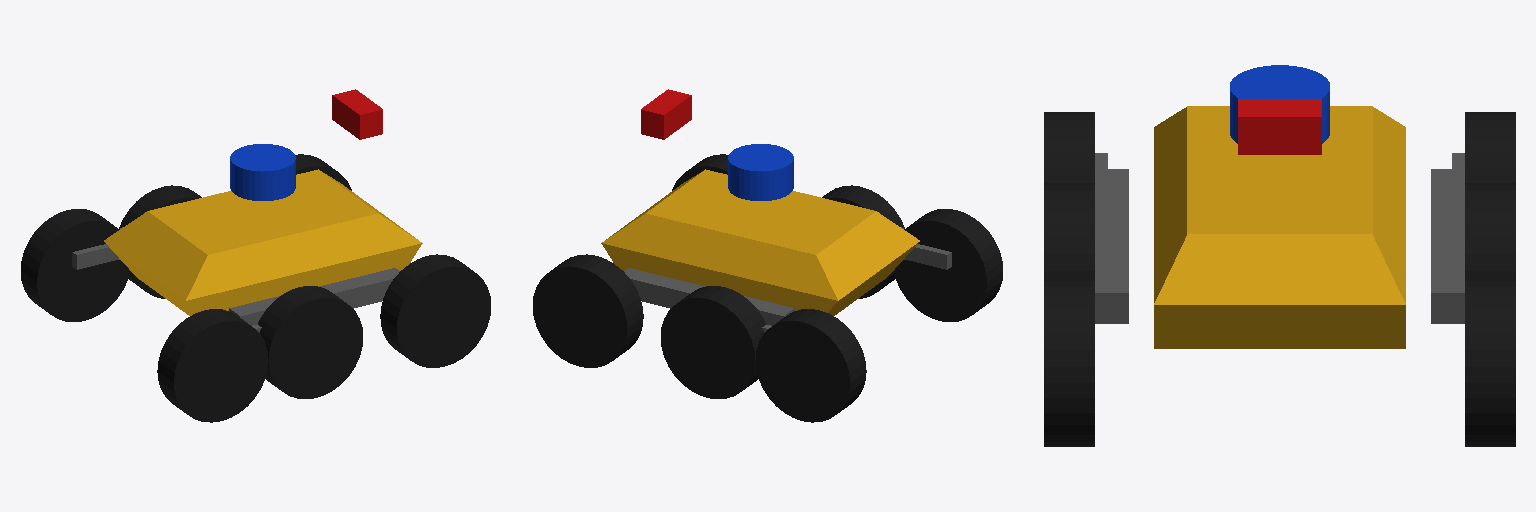
The robot description file, URDF, robot "planetary_rover":
<?xml version="1.0"?>
<robot name="planetary_rover">

  <!-- materials -->
  <material name="gold">
    <color rgba="0.85 0.65 0.12 1.0"/>
  </material>

  <material name="rover_grey">
    <color rgba="0.4 0.4 0.4 1.0"/>
  </material>

  <material name="wheel_dark">
    <color rgba="0.15 0.15 0.15 1.0"/>
  </material>

  <material name="sensor_red">
    <color rgba="0.8 0.1 0.1 1.0"/>
  </material>

  <material name="sensor_blue">
    <color rgba="0.1 0.3 0.8 1.0"/>
  </material>

  <!-- base_footprint (massless root link) -->
  <link name="base_footprint"/>

  <joint name="base_footprint_joint" type="fixed">
    <parent link="base_footprint"/>
    <child link="base_link"/>
    <origin xyz="0 0 0.15" rpy="0 0 0"/>
  </joint>

  <!-- base_link (chassis with mesh) -->
  <link name="base_link">
    <visual>
      <origin xyz="0 0 0" rpy="0 0 0"/>
      <geometry>
        <mesh filename="package://05_planetary_rover/meshes/chassis.stl"/>
      </geometry>
      <material name="gold"/>
    </visual>
    <collision>
      <origin xyz="0 0 0.025" rpy="0 0 0"/>
      <geometry>
        <box size="0.5 0.3 0.15"/>
      </geometry>
    </collision>
    <inertial>
      <origin xyz="0 0 0.025" rpy="0 0 0"/>
      <mass value="15.0"/>
      <inertia ixx="0.14" ixy="0.0" ixz="0.0" iyy="0.34" iyz="0.0" izz="0.42"/>
    </inertial>
  </link>

  <!-- ================= LEFT ROCKER-BOGIE ================= -->
  <!-- left rocker pivot -->
  <joint name="left_rocker_joint" type="revolute">
    <parent link="base_link"/>
    <child link="left_rocker_link"/>
    <origin xyz="0 0.20 0.0" rpy="0 0 0"/>
    <axis xyz="0 1 0"/>
    <limit lower="-0.35" upper="0.35" effort="50.0" velocity="1.0"/>
  </joint>

  <link name="left_rocker_link">
    <visual>
      <origin xyz="0 0 0" rpy="0 0 0"/>
      <geometry>
        <box size="0.35 0.04 0.04"/>
      </geometry>
      <material name="rover_grey"/>
    </visual>
    <collision>
      <origin xyz="0 0 0" rpy="0 0 0"/>
      <geometry>
        <box size="0.35 0.04 0.04"/>
      </geometry>
    </collision>
    <inertial>
      <origin xyz="0 0 0" rpy="0 0 0"/>
      <mass value="1.5"/>
      <inertia ixx="0.0004" ixy="0.0" ixz="0.0" iyy="0.015" iyz="0.0" izz="0.015"/>
    </inertial>
  </link>

  <!-- left front wheel -->
  <joint name="left_front_wheel_joint" type="continuous">
    <parent link="left_rocker_link"/>
    <child link="left_front_wheel_link"/>
    <origin xyz="0.22 0.05 -0.05" rpy="0 0 0"/>
    <axis xyz="0 1 0"/>
  </joint>

  <link name="left_front_wheel_link">
    <visual>
      <origin xyz="0 0 0" rpy="1.57079632679 0 0"/>
      <geometry>
        <cylinder radius="0.1" length="0.06"/>
      </geometry>
      <material name="wheel_dark"/>
    </visual>
    <collision>
      <origin xyz="0 0 0" rpy="1.57079632679 0 0"/>
      <geometry>
        <cylinder radius="0.1" length="0.06"/>
      </geometry>
    </collision>
    <inertial>
      <origin xyz="0 0 0" rpy="0 0 0"/>
      <mass value="1.0"/>
      <inertia ixx="0.0028" ixy="0.0" ixz="0.0" iyy="0.005" iyz="0.0" izz="0.0028"/>
    </inertial>
  </link>

  <!-- left bogie pivot on rear of rocker -->
  <joint name="left_bogie_joint" type="revolute">
    <parent link="left_rocker_link"/>
    <child link="left_bogie_link"/>
    <origin xyz="-0.15 0.02 -0.02" rpy="0 0 0"/>
    <axis xyz="0 1 0"/>
    <limit lower="-0.35" upper="0.35" effort="30.0" velocity="1.0"/>
  </joint>

  <link name="left_bogie_link">
    <visual>
      <origin xyz="0 0 0" rpy="0 0 0"/>
      <geometry>
        <box size="0.25 0.03 0.03"/>
      </geometry>
      <material name="rover_grey"/>
    </visual>
    <collision>
      <origin xyz="0 0 0" rpy="0 0 0"/>
      <geometry>
        <box size="0.25 0.03 0.03"/>
      </geometry>
    </collision>
    <inertial>
      <origin xyz="0 0 0" rpy="0 0 0"/>
      <mass value="1.0"/>
      <inertia ixx="0.00015" ixy="0.0" ixz="0.0" iyy="0.005" iyz="0.0" izz="0.005"/>
    </inertial>
  </link>

  <!-- left middle wheel -->
  <joint name="left_middle_wheel_joint" type="continuous">
    <parent link="left_bogie_link"/>
    <child link="left_middle_wheel_link"/>
    <origin xyz="0.10 0.03 -0.03" rpy="0 0 0"/>
    <axis xyz="0 1 0"/>
  </joint>

  <link name="left_middle_wheel_link">
    <visual>
      <origin xyz="0 0 0" rpy="1.57079632679 0 0"/>
      <geometry>
        <cylinder radius="0.1" length="0.06"/>
      </geometry>
      <material name="wheel_dark"/>
    </visual>
    <collision>
      <origin xyz="0 0 0" rpy="1.57079632679 0 0"/>
      <geometry>
        <cylinder radius="0.1" length="0.06"/>
      </geometry>
    </collision>
    <inertial>
      <origin xyz="0 0 0" rpy="0 0 0"/>
      <mass value="1.0"/>
      <inertia ixx="0.0028" ixy="0.0" ixz="0.0" iyy="0.005" iyz="0.0" izz="0.0028"/>
    </inertial>
  </link>

  <!-- left rear wheel -->
  <joint name="left_rear_wheel_joint" type="continuous">
    <parent link="left_bogie_link"/>
    <child link="left_rear_wheel_link"/>
    <origin xyz="-0.10 0.03 -0.03" rpy="0 0 0"/>
    <axis xyz="0 1 0"/>
  </joint>

  <link name="left_rear_wheel_link">
    <visual>
      <origin xyz="0 0 0" rpy="1.57079632679 0 0"/>
      <geometry>
        <cylinder radius="0.1" length="0.06"/>
      </geometry>
      <material name="wheel_dark"/>
    </visual>
    <collision>
      <origin xyz="0 0 0" rpy="1.57079632679 0 0"/>
      <geometry>
        <cylinder radius="0.1" length="0.06"/>
      </geometry>
    </collision>
    <inertial>
      <origin xyz="0 0 0" rpy="0 0 0"/>
      <mass value="1.0"/>
      <inertia ixx="0.0028" ixy="0.0" ixz="0.0" iyy="0.005" iyz="0.0" izz="0.0028"/>
    </inertial>
  </link>

  <!-- ================= RIGHT ROCKER-BOGIE ================= -->
  <!-- right rocker pivot -->
  <joint name="right_rocker_joint" type="revolute">
    <parent link="base_link"/>
    <child link="right_rocker_link"/>
    <origin xyz="0 -0.20 0.0" rpy="0 0 0"/>
    <axis xyz="0 1 0"/>
    <limit lower="-0.35" upper="0.35" effort="50.0" velocity="1.0"/>
  </joint>

  <link name="right_rocker_link">
    <visual>
      <origin xyz="0 0 0" rpy="0 0 0"/>
      <geometry>
        <box size="0.35 0.04 0.04"/>
      </geometry>
      <material name="rover_grey"/>
    </visual>
    <collision>
      <origin xyz="0 0 0" rpy="0 0 0"/>
      <geometry>
        <box size="0.35 0.04 0.04"/>
      </geometry>
    </collision>
    <inertial>
      <origin xyz="0 0 0" rpy="0 0 0"/>
      <mass value="1.5"/>
      <inertia ixx="0.0004" ixy="0.0" ixz="0.0" iyy="0.015" iyz="0.0" izz="0.015"/>
    </inertial>
  </link>

  <!-- right front wheel -->
  <joint name="right_front_wheel_joint" type="continuous">
    <parent link="right_rocker_link"/>
    <child link="right_front_wheel_link"/>
    <origin xyz="0.22 -0.05 -0.05" rpy="0 0 0"/>
    <axis xyz="0 1 0"/>
  </joint>

  <link name="right_front_wheel_link">
    <visual>
      <origin xyz="0 0 0" rpy="1.57079632679 0 0"/>
      <geometry>
        <cylinder radius="0.1" length="0.06"/>
      </geometry>
      <material name="wheel_dark"/>
    </visual>
    <collision>
      <origin xyz="0 0 0" rpy="1.57079632679 0 0"/>
      <geometry>
        <cylinder radius="0.1" length="0.06"/>
      </geometry>
    </collision>
    <inertial>
      <origin xyz="0 0 0" rpy="0 0 0"/>
      <mass value="1.0"/>
      <inertia ixx="0.0028" ixy="0.0" ixz="0.0" iyy="0.005" iyz="0.0" izz="0.0028"/>
    </inertial>
  </link>

  <!-- right bogie pivot -->
  <joint name="right_bogie_joint" type="revolute">
    <parent link="right_rocker_link"/>
    <child link="right_bogie_link"/>
    <origin xyz="-0.15 -0.02 -0.02" rpy="0 0 0"/>
    <axis xyz="0 1 0"/>
    <limit lower="-0.35" upper="0.35" effort="30.0" velocity="1.0"/>
  </joint>

  <link name="right_bogie_link">
    <visual>
      <origin xyz="0 0 0" rpy="0 0 0"/>
      <geometry>
        <box size="0.25 0.03 0.03"/>
      </geometry>
      <material name="rover_grey"/>
    </visual>
    <collision>
      <origin xyz="0 0 0" rpy="0 0 0"/>
      <geometry>
        <box size="0.25 0.03 0.03"/>
      </geometry>
    </collision>
    <inertial>
      <origin xyz="0 0 0" rpy="0 0 0"/>
      <mass value="1.0"/>
      <inertia ixx="0.00015" ixy="0.0" ixz="0.0" iyy="0.005" iyz="0.0" izz="0.005"/>
    </inertial>
  </link>

  <!-- right middle wheel -->
  <joint name="right_middle_wheel_joint" type="continuous">
    <parent link="right_bogie_link"/>
    <child link="right_middle_wheel_link"/>
    <origin xyz="0.10 -0.03 -0.03" rpy="0 0 0"/>
    <axis xyz="0 1 0"/>
  </joint>

  <link name="right_middle_wheel_link">
    <visual>
      <origin xyz="0 0 0" rpy="1.57079632679 0 0"/>
      <geometry>
        <cylinder radius="0.1" length="0.06"/>
      </geometry>
      <material name="wheel_dark"/>
    </visual>
    <collision>
      <origin xyz="0 0 0" rpy="1.57079632679 0 0"/>
      <geometry>
        <cylinder radius="0.1" length="0.06"/>
      </geometry>
    </collision>
    <inertial>
      <origin xyz="0 0 0" rpy="0 0 0"/>
      <mass value="1.0"/>
      <inertia ixx="0.0028" ixy="0.0" ixz="0.0" iyy="0.005" iyz="0.0" izz="0.0028"/>
    </inertial>
  </link>

  <!-- right rear wheel -->
  <joint name="right_rear_wheel_joint" type="continuous">
    <parent link="right_bogie_link"/>
    <child link="right_rear_wheel_link"/>
    <origin xyz="-0.10 -0.03 -0.03" rpy="0 0 0"/>
    <axis xyz="0 1 0"/>
  </joint>

  <link name="right_rear_wheel_link">
    <visual>
      <origin xyz="0 0 0" rpy="1.57079632679 0 0"/>
      <geometry>
        <cylinder radius="0.1" length="0.06"/>
      </geometry>
      <material name="wheel_dark"/>
    </visual>
    <collision>
      <origin xyz="0 0 0" rpy="1.57079632679 0 0"/>
      <geometry>
        <cylinder radius="0.1" length="0.06"/>
      </geometry>
    </collision>
    <inertial>
      <origin xyz="0 0 0" rpy="0 0 0"/>
      <mass value="1.0"/>
      <inertia ixx="0.0028" ixy="0.0" ixz="0.0" iyy="0.005" iyz="0.0" izz="0.0028"/>
    </inertial>
  </link>

  <!-- ================= SENSORS ================= -->
  <!-- camera mast & sensor -->
  <joint name="camera_joint" type="fixed">
    <parent link="base_link"/>
    <child link="camera_link"/>
    <origin xyz="0.2 0.0 0.25" rpy="0 0 0"/>
  </joint>

  <link name="camera_link">
    <visual>
      <origin xyz="0 0 0" rpy="0 0 0"/>
      <geometry>
        <box size="0.05 0.1 0.05"/>
      </geometry>
      <material name="sensor_red"/>
    </visual>
    <collision>
      <origin xyz="0 0 0" rpy="0 0 0"/>
      <geometry>
        <box size="0.05 0.1 0.05"/>
      </geometry>
    </collision>
    <inertial>
      <origin xyz="0 0 0" rpy="0 0 0"/>
      <mass value="0.2"/>
      <inertia ixx="0.0002" ixy="0.0" ixz="0.0" iyy="0.0001" iyz="0.0" izz="0.0002"/>
    </inertial>
  </link>

  <!-- lidar sensor -->
  <joint name="lidar_joint" type="fixed">
    <parent link="base_link"/>
    <child link="lidar_link"/>
    <origin xyz="0.0 0.0 0.18" rpy="0 0 0"/>
  </joint>

  <link name="lidar_link">
    <visual>
      <origin xyz="0 0 0" rpy="0 0 0"/>
      <geometry>
        <cylinder radius="0.06" length="0.06"/>
      </geometry>
      <material name="sensor_blue"/>
    </visual>
    <collision>
      <origin xyz="0 0 0" rpy="0 0 0"/>
      <geometry>
        <cylinder radius="0.06" length="0.06"/>
      </geometry>
    </collision>
    <inertial>
      <origin xyz="0 0 0" rpy="0 0 0"/>
      <mass value="0.3"/>
      <inertia ixx="0.00036" ixy="0.0" ixz="0.0" iyy="0.00036" iyz="0.0" izz="0.00054"/>
    </inertial>
  </link>

  <!-- imu sensor -->
  <joint name="imu_joint" type="fixed">
    <parent link="base_link"/>
    <child link="imu_link"/>
    <origin xyz="0.0 0.0 0.02" rpy="0 0 0"/>
  </joint>

  <link name="imu_link">
    <visual>
      <origin xyz="0 0 0" rpy="0 0 0"/>
      <geometry>
        <box size="0.03 0.03 0.01"/>
      </geometry>
      <material name="sensor_red"/>
    </visual>
    <collision>
      <origin xyz="0 0 0" rpy="0 0 0"/>
      <geometry>
        <box size="0.03 0.03 0.01"/>
      </geometry>
    </collision>
    <inertial>
      <origin xyz="0 0 0" rpy="0 0 0"/>
      <mass value="0.05"/>
      <inertia ixx="0.00001" ixy="0.0" ixz="0.0" iyy="0.00001" iyz="0.0" izz="0.00001"/>
    </inertial>
  </link>

  <!-- ================= GAZEBO FRICTION EXTENSIONS ================= -->
  <gazebo reference="left_front_wheel_link">
    <mu1>1.2</mu1>
    <mu2>1.2</mu2>
    <kp>1000000.0</kp>
    <kd>100.0</kd>
  </gazebo>
  <gazebo reference="left_middle_wheel_link">
    <mu1>1.2</mu1>
    <mu2>1.2</mu2>
    <kp>1000000.0</kp>
    <kd>100.0</kd>
  </gazebo>
  <gazebo reference="left_rear_wheel_link">
    <mu1>1.2</mu1>
    <mu2>1.2</mu2>
    <kp>1000000.0</kp>
    <kd>100.0</kd>
  </gazebo>
  <gazebo reference="right_front_wheel_link">
    <mu1>1.2</mu1>
    <mu2>1.2</mu2>
    <kp>1000000.0</kp>
    <kd>100.0</kd>
  </gazebo>
  <gazebo reference="right_middle_wheel_link">
    <mu1>1.2</mu1>
    <mu2>1.2</mu2>
    <kp>1000000.0</kp>
    <kd>100.0</kd>
  </gazebo>
  <gazebo reference="right_rear_wheel_link">
    <mu1>1.2</mu1>
    <mu2>1.2</mu2>
    <kp>1000000.0</kp>
    <kd>100.0</kd>
  </gazebo>

</robot>

--- Render facts (derived) ---
3 views of the same robot in one strip: view 1: azimuth 30°, elevation 25°; view 2: azimuth 150°, elevation 25°; view 3: azimuth 270°, elevation 25° (orthographic).
Model planetary_rover with 15 links and 14 joints (4 revolute, 6 continuous, 4 fixed), rooted at base_footprint, posed all joints at 0.
Visible links, largest first — view 1: base_link, right_front_wheel_link, right_rear_wheel_link, right_middle_wheel_link, left_rear_wheel_link, lidar_link, right_rocker_link, camera_link, left_middle_wheel_link, left_bogie_link, left_front_wheel_link; view 2: base_link, left_front_wheel_link, left_rear_wheel_link, left_middle_wheel_link, right_rear_wheel_link, lidar_link, left_rocker_link, camera_link, right_middle_wheel_link, right_bogie_link, right_front_wheel_link; view 3: base_link, left_front_wheel_link, right_front_wheel_link, left_rocker_link, right_rocker_link, left_middle_wheel_link, right_middle_wheel_link, camera_link, left_rear_wheel_link, right_rear_wheel_link, lidar_link.
Boxes of the visible links, x1=… form: base_link: x1=104, y1=169, x2=422, y2=315; right_front_wheel_link: x1=380, y1=254, x2=490, y2=367; right_rear_wheel_link: x1=157, y1=309, x2=268, y2=422; right_middle_wheel_link: x1=258, y1=286, x2=362, y2=398; left_rear_wheel_link: x1=21, y1=209, x2=129, y2=321; lidar_link: x1=230, y1=144, x2=295, y2=200; right_rocker_link: x1=229, y1=268, x2=399, y2=325; camera_link: x1=332, y1=89, x2=382, y2=139; left_middle_wheel_link: x1=119, y1=185, x2=201, y2=298; left_bogie_link: x1=72, y1=244, x2=119, y2=269; left_front_wheel_link: x1=295, y1=154, x2=351, y2=190; base_link: x1=601, y1=169, x2=919, y2=315; left_front_wheel_link: x1=533, y1=254, x2=643, y2=367; left_rear_wheel_link: x1=755, y1=309, x2=866, y2=422; left_middle_wheel_link: x1=661, y1=286, x2=765, y2=398; right_rear_wheel_link: x1=894, y1=209, x2=1002, y2=321; lidar_link: x1=728, y1=144, x2=793, y2=200; left_rocker_link: x1=624, y1=268, x2=794, y2=325; camera_link: x1=641, y1=89, x2=691, y2=139; right_middle_wheel_link: x1=822, y1=185, x2=904, y2=298; right_bogie_link: x1=904, y1=244, x2=951, y2=269; right_front_wheel_link: x1=672, y1=154, x2=728, y2=190; base_link: x1=1154, y1=106, x2=1405, y2=348; left_front_wheel_link: x1=1465, y1=279, x2=1515, y2=446; right_front_wheel_link: x1=1044, y1=279, x2=1094, y2=446; left_rocker_link: x1=1431, y1=169, x2=1464, y2=323; right_rocker_link: x1=1095, y1=169, x2=1128, y2=323; left_middle_wheel_link: x1=1465, y1=183, x2=1515, y2=278; right_middle_wheel_link: x1=1044, y1=183, x2=1094, y2=278; camera_link: x1=1238, y1=99, x2=1321, y2=154; left_rear_wheel_link: x1=1465, y1=112, x2=1515, y2=182; right_rear_wheel_link: x1=1044, y1=112, x2=1094, y2=182; lidar_link: x1=1230, y1=65, x2=1329, y2=143.
Size in the robot's own frame: 0.67 by 0.56 by 0.425 metres.
1 mesh visuals loaded from 1 distinct referenced files (1 binary STL).
